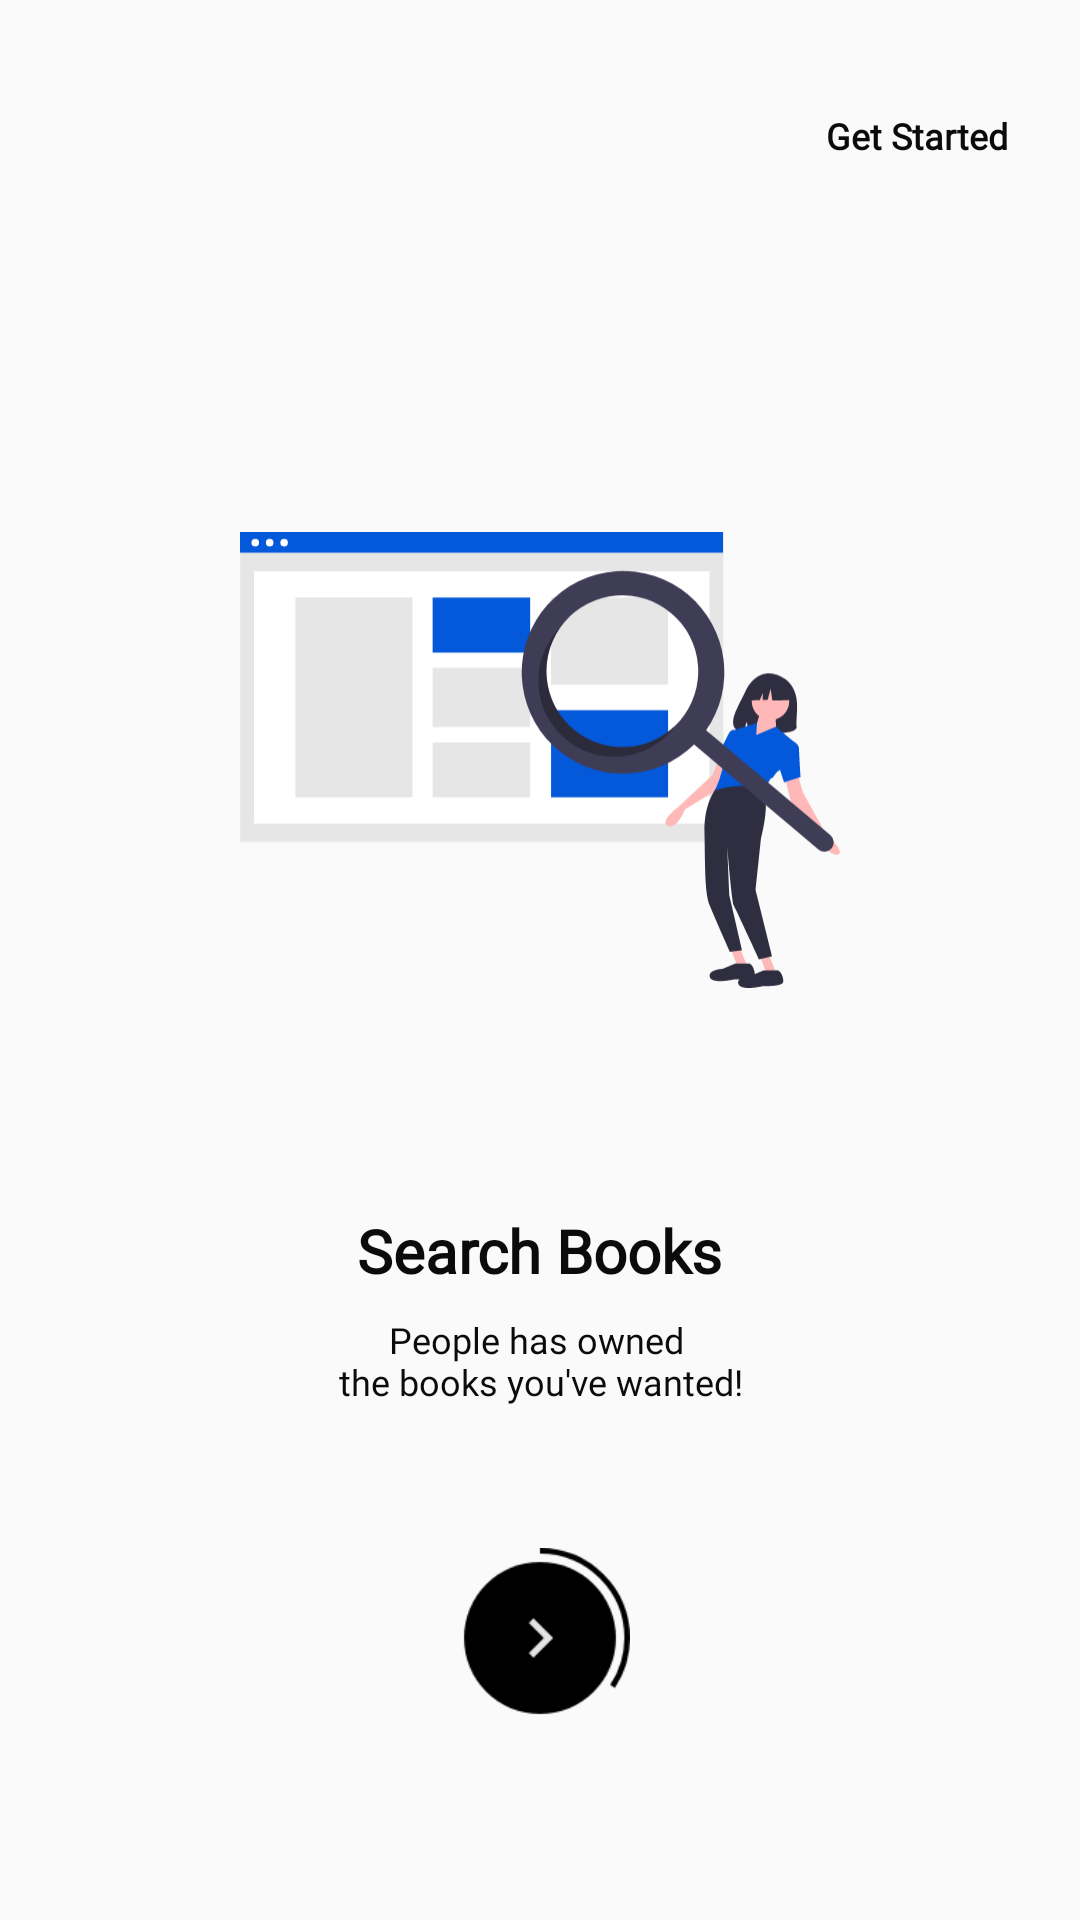

Named icons in this screenshot (1080w x 1920h) and their bounding boxes, [x1,y1,x2,y2]:
Next: [463,1548,630,1715]
